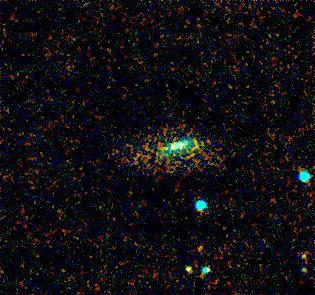star: (171, 254, 201, 284)
